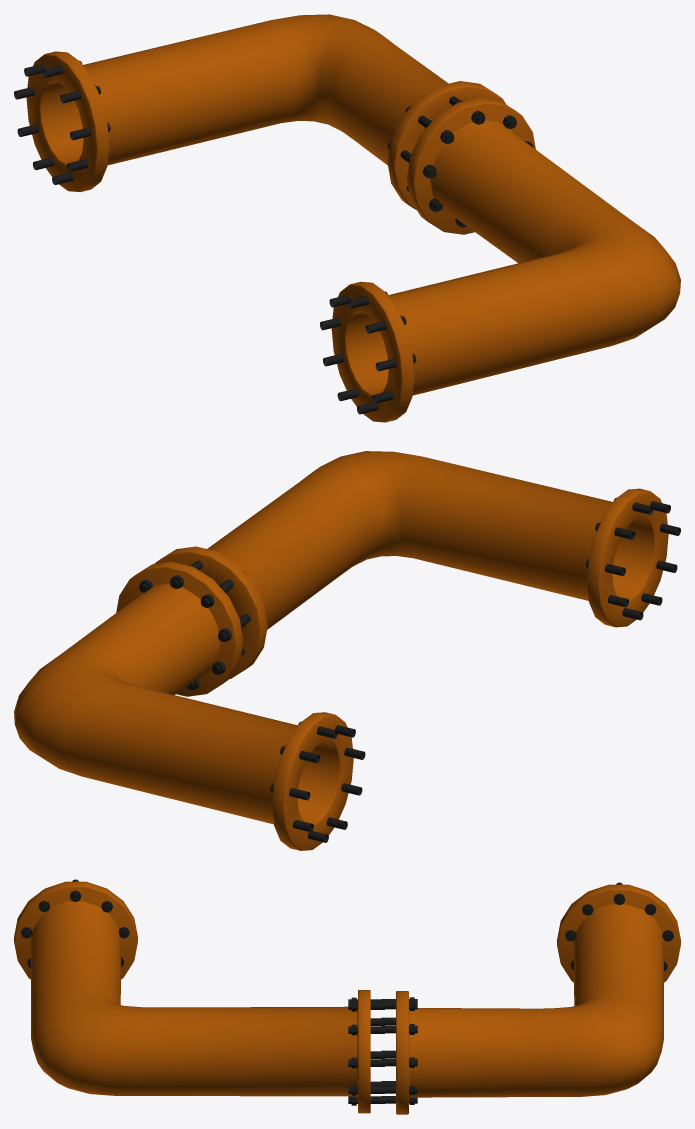
File: IND_PIPE_3.FBX
The picture shows the model from 3 angles, top to bottom: view 1: azimuth 30°, elevation 25°; view 2: azimuth 150°, elevation 25°; view 3: azimuth 270°, elevation 25°; orthographic projection. The views are drawn at different scales.
Visible parts, largest first — view 1: Cylinder019, screws012; view 2: Cylinder019, screws012; view 3: Cylinder019, screws012.
Part boxes in pixels (<box>): Cylinder019: <box>26,14,680,422</box>; screws012: <box>14,60,533,414</box>; Cylinder019: <box>14,451,668,850</box>; screws012: <box>139,497,680,842</box>; Cylinder019: <box>14,881,680,1114</box>; screws012: <box>21,879,673,1105</box>.
Size of the model in its own units: 562 by 194 by 1060.
